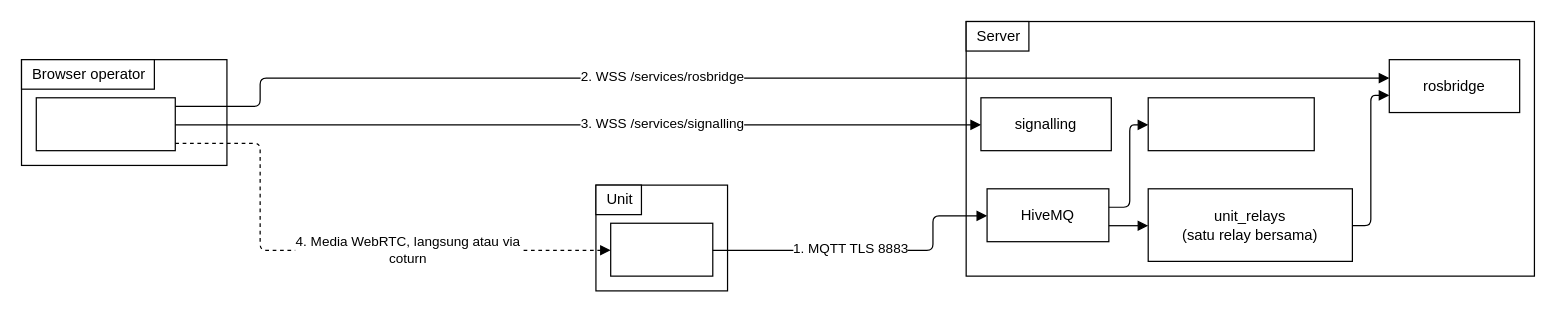
This 1556x312 diagram has some shape labels left out. Each missing label, with the centre of its shape:
backend_node: [1230,124]
dashboard: [105,124]
robot: [661,249]
